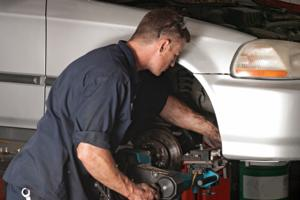person: (1, 7, 224, 200)
